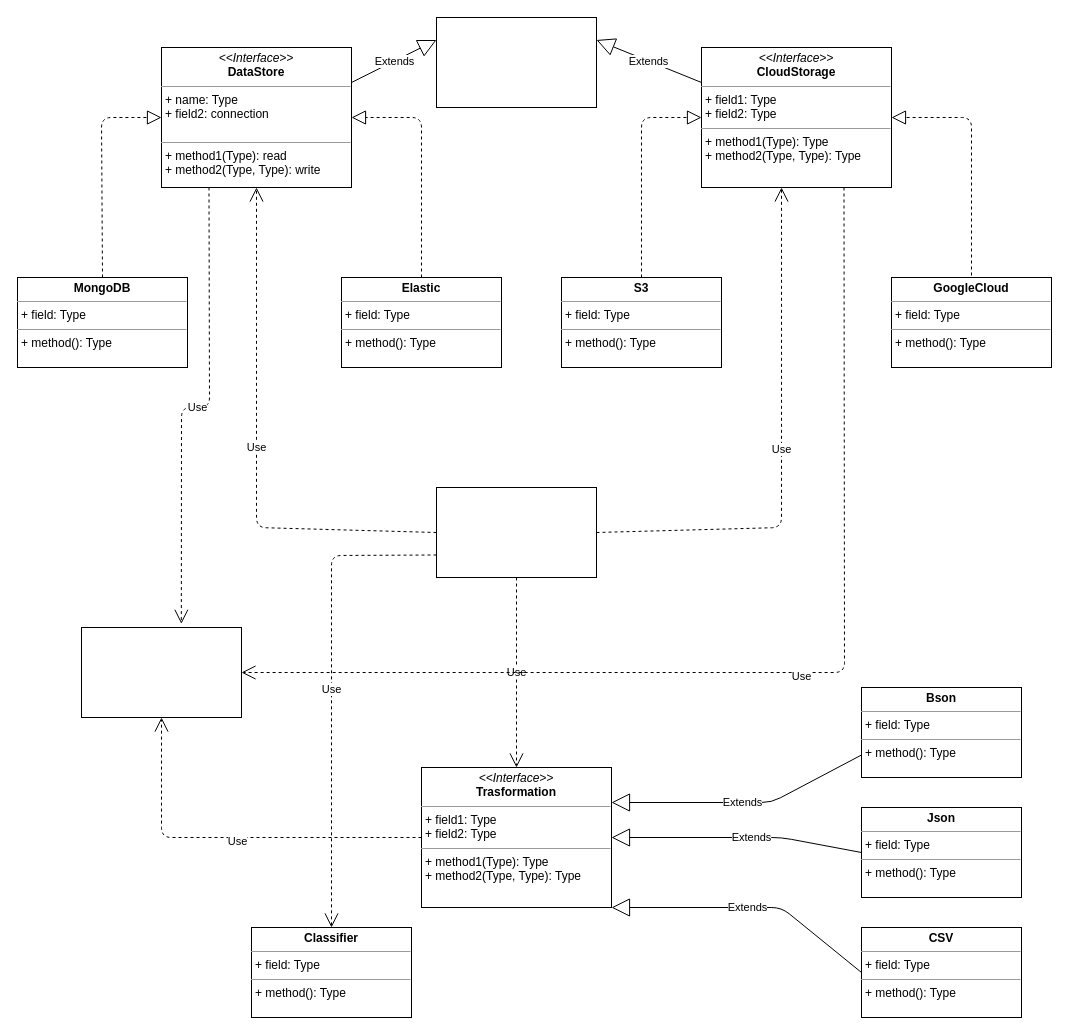
The diagram is 1069 pixels wide and 1035 high, and some of its shapes have lost their labels. The shapes that lost their labels are listed below. From the top down, each one's centre as x and y in pixels, then its label:
At point (516, 62): "Service + field: Type + method(): Type".
At point (516, 532): "Control + field: Type + method(): Type".
At point (161, 672): "Data + field: Type + method(): Type".
